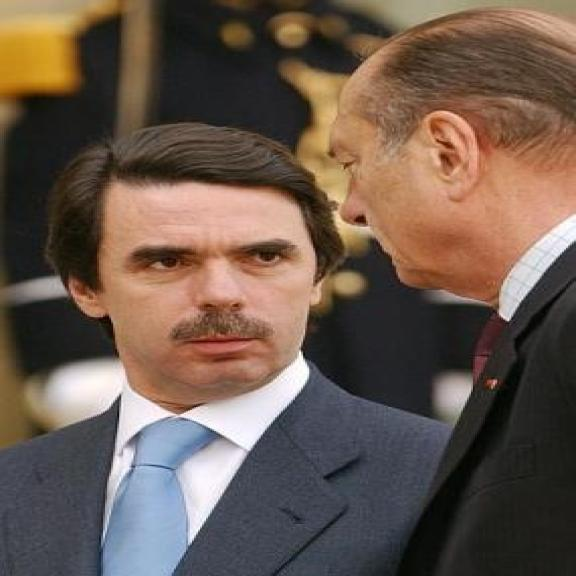face: (57, 186, 336, 390), (328, 84, 503, 299)
